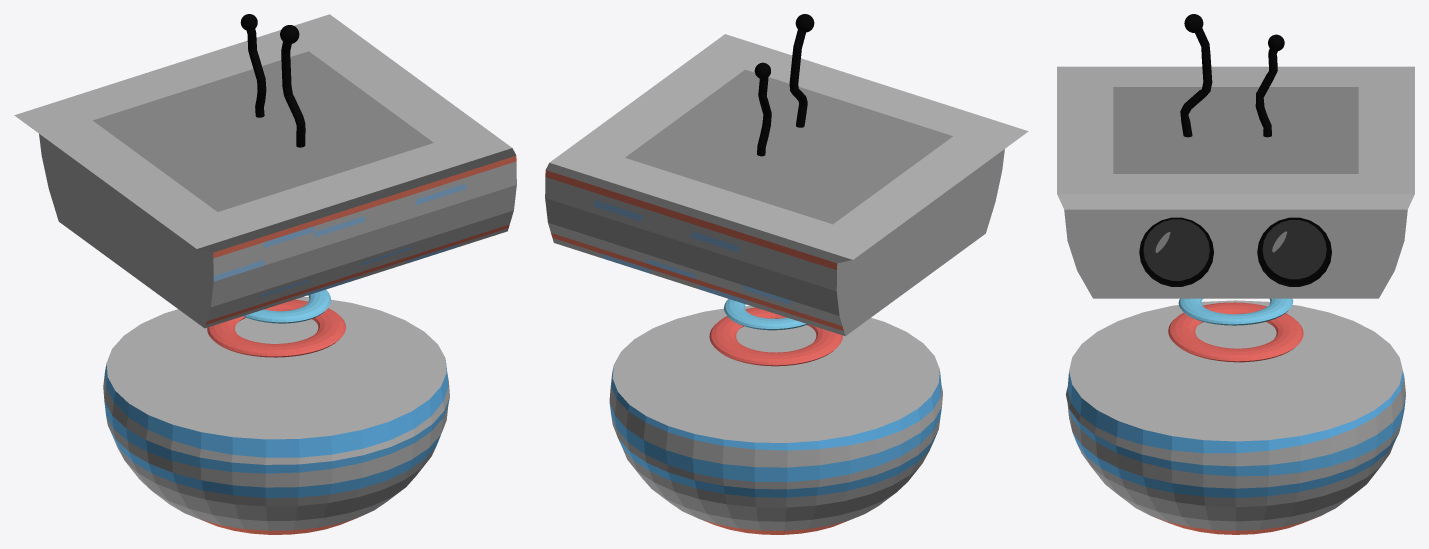
Rendered from BOB.fbx.
3 views of the same model, side by side, from view 1: azimuth 30°, elevation 25°; view 2: azimuth 150°, elevation 25°; view 3: azimuth 270°, elevation 25° (orthographic). The views are drawn at different scales.
Visible parts, largest first — view 1: Cylinder, Sphere, Torus.002, Cylinder.001, Torus.001, Cylinder.002; view 2: Cylinder, Sphere, Torus.002, Cylinder.001, Torus.001, Cylinder.002; view 3: Cylinder, Sphere, Torus.002, Torus.001, Cylinder.001, Cylinder.002.
Boxes of the visible parts, x1=… form: Cylinder: x1=14, y1=14, x2=516, y2=328; Sphere: x1=103, y1=296, x2=449, y2=534; Torus.002: x1=207, y1=299, x2=345, y2=357; Cylinder.001: x1=280, y1=25, x2=305, y2=147; Torus.001: x1=243, y1=289, x2=330, y2=323; Cylinder.002: x1=240, y1=14, x2=266, y2=117; Cylinder: x1=545, y1=34, x2=1028, y2=336; Sphere: x1=609, y1=306, x2=942, y2=534; Torus.002: x1=709, y1=307, x2=842, y2=366; Cylinder.001: x1=789, y1=14, x2=814, y2=127; Torus.001: x1=724, y1=299, x2=807, y2=330; Cylinder.002: x1=754, y1=62, x2=771, y2=156; Cylinder: x1=1057, y1=66, x2=1414, y2=298; Sphere: x1=1066, y1=300, x2=1405, y2=534; Torus.002: x1=1168, y1=302, x2=1303, y2=362; Torus.001: x1=1178, y1=298, x2=1293, y2=325; Cylinder.001: x1=1180, y1=14, x2=1212, y2=137; Cylinder.002: x1=1255, y1=34, x2=1284, y2=137.
Bounding box in the file's own units: 219 × 322 × 210.
